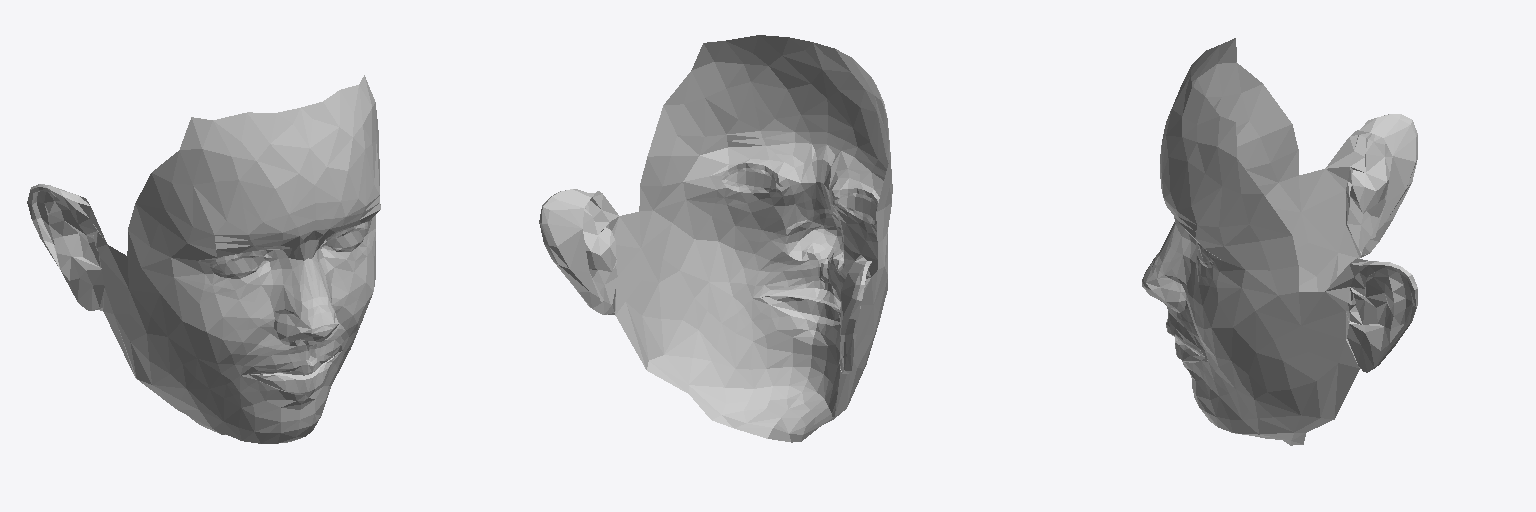
The model's file is Rachel.init.obj.
3 renders of one model, left to right at view 1: azimuth 30°, elevation 25°; view 2: azimuth 150°, elevation 25°; view 3: azimuth 270°, elevation 25°, orthographic.
Size of the model in its own units: 37.95 by 40.92 by 28.1.